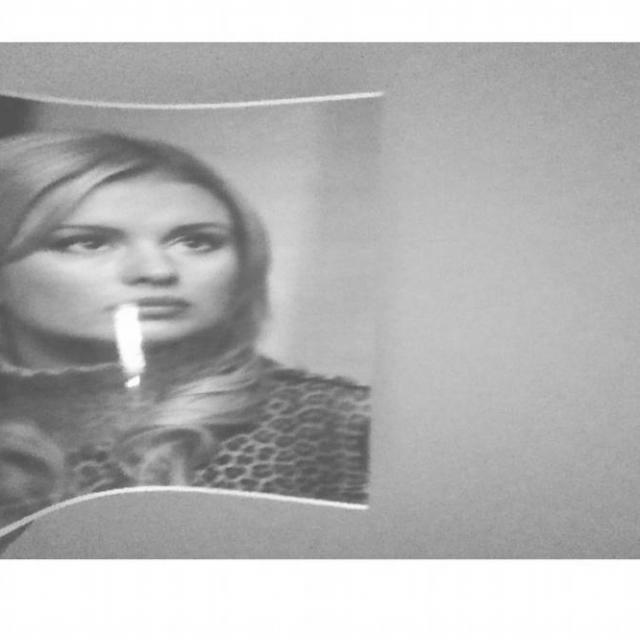fake: (0, 82, 391, 558)
